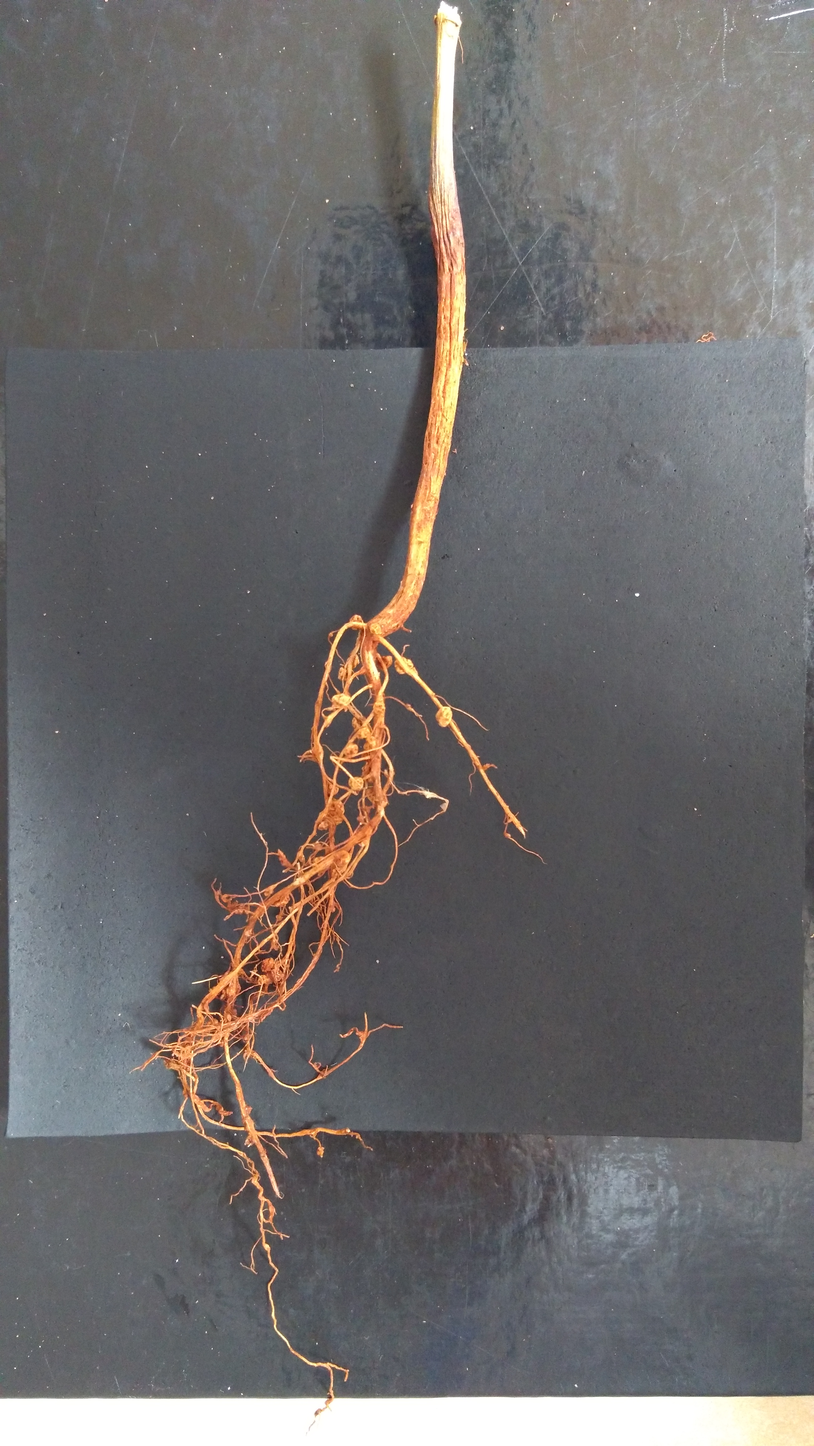nodule: (316, 796, 346, 832), (434, 705, 453, 730), (352, 715, 371, 739), (311, 854, 332, 873), (224, 972, 241, 995), (330, 692, 352, 708), (353, 825, 369, 847), (393, 656, 410, 676), (375, 655, 394, 671), (348, 613, 364, 631), (347, 776, 365, 792), (330, 863, 348, 878), (260, 956, 275, 973), (370, 701, 388, 715), (342, 743, 358, 757), (275, 893, 291, 907), (347, 652, 360, 669), (335, 849, 350, 863), (368, 622, 384, 635), (364, 736, 378, 749), (243, 1133, 257, 1146), (336, 666, 348, 681), (326, 784, 340, 796), (257, 974, 270, 986), (316, 1145, 325, 1158), (207, 1017, 218, 1027), (202, 1000, 210, 1013), (245, 1104, 253, 1115), (275, 914, 284, 922), (313, 1408, 321, 1416), (243, 1033, 250, 1040), (324, 1398, 331, 1405), (226, 1014, 232, 1022), (331, 907, 336, 913)
